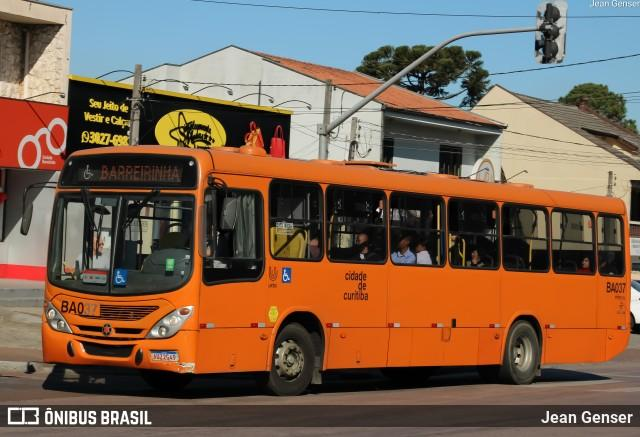BARREIRINHA: (97, 158, 186, 186)
